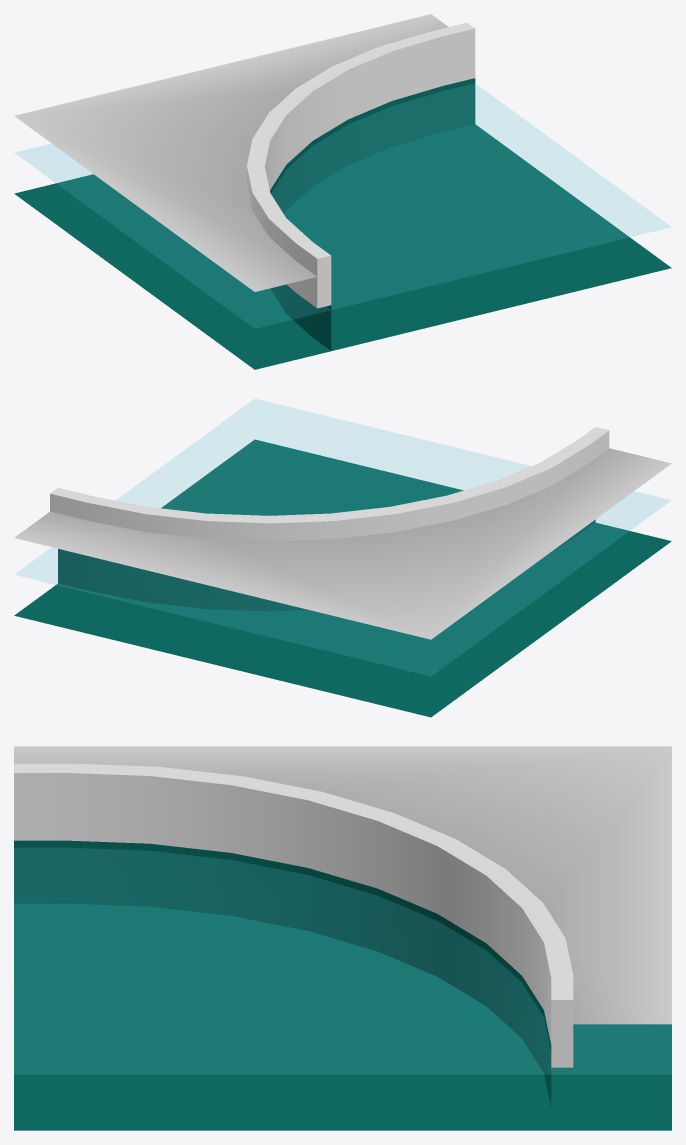
File: Water_10.glb
The picture shows the model from 3 angles, top to bottom: view 1: azimuth 30°, elevation 25°; view 2: azimuth 150°, elevation 25°; view 3: azimuth 270°, elevation 25°; orthographic projection. The views are drawn at different scales.
Visible parts, largest first — view 1: Water_10; view 2: Water_10; view 3: Water_10.
Boxes of the visible parts, x1,y1,x2,y2 form: Water_10: (14,14,671,369); Water_10: (14,399,671,717); Water_10: (14,746,671,1130).
Bounding box in the file's own units: 15 × 3.29 × 15.
2 materials, 2 textured.
